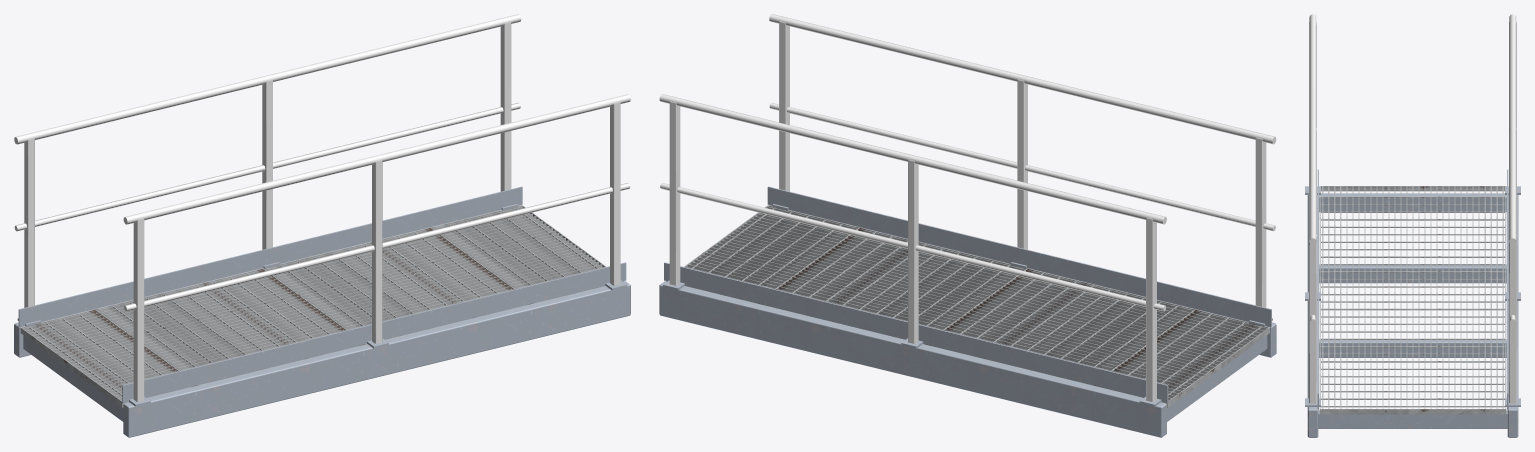
File: catwalk.glb
3 renders of one model, left to right at view 1: azimuth 30°, elevation 25°; view 2: azimuth 150°, elevation 25°; view 3: azimuth 270°, elevation 25°, orthographic. The views are drawn at different scales.
Visible parts, largest first — view 1: catwalk; view 2: catwalk; view 3: catwalk.
Boxes of the visible parts, x1,y1,x2,y2 form: catwalk: [14, 14, 630, 437]; catwalk: [659, 14, 1276, 437]; catwalk: [1305, 14, 1520, 437].
Bounding box in the file's own units: 3 × 1.25 × 1.22.
3 materials, 3 textured.
